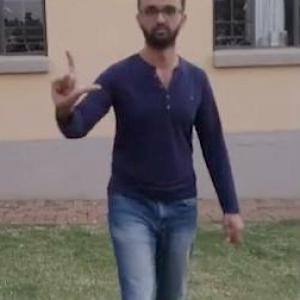land_hand: (42, 40, 104, 115)
